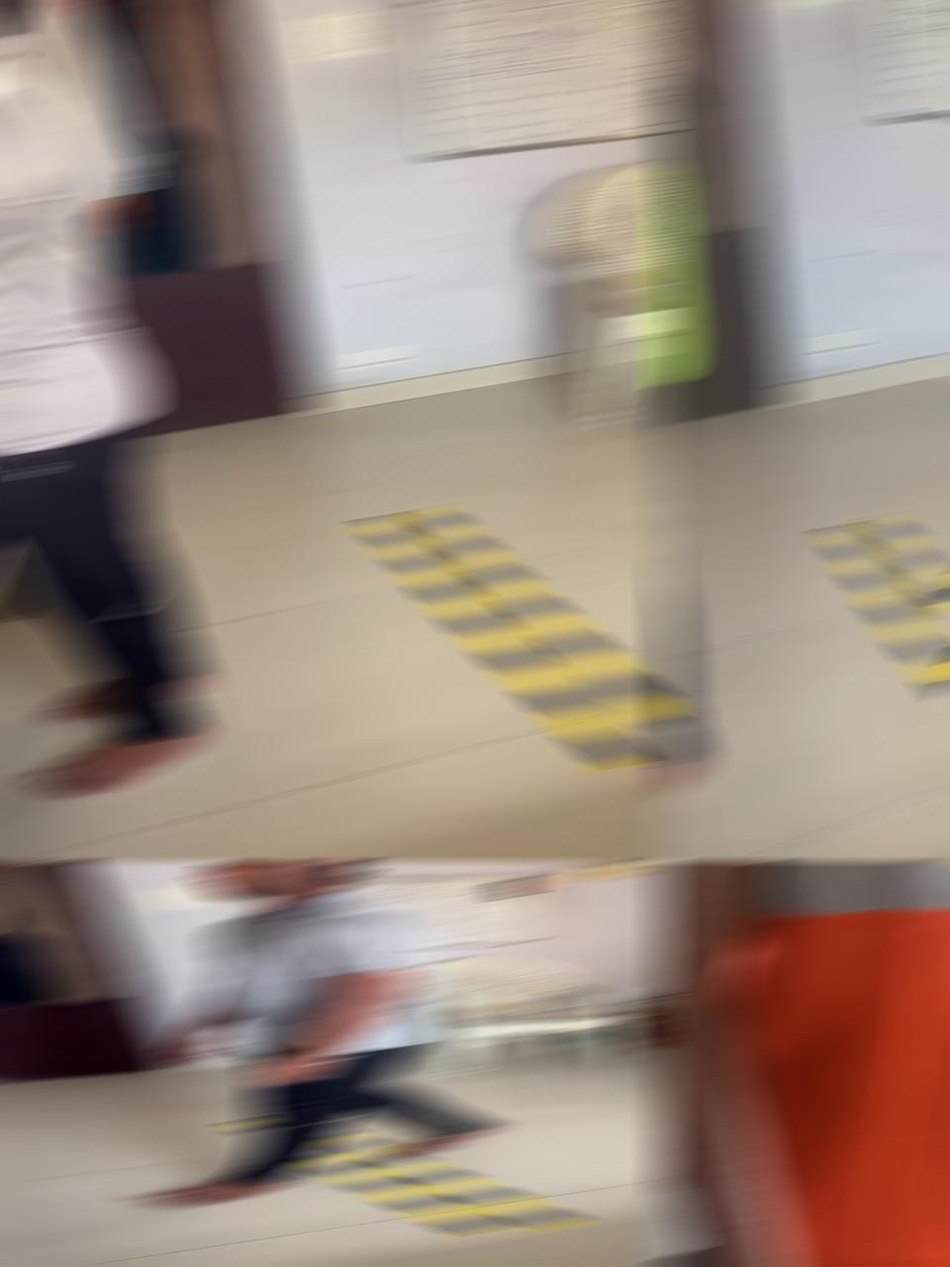BorderLine: (362, 504, 673, 774), (220, 1118, 590, 1235), (817, 515, 950, 821)
Helmet: (189, 862, 373, 902)
No_Vest: (0, 48, 158, 452), (204, 893, 442, 1052)
Person: (0, 36, 212, 796), (129, 862, 503, 1203), (656, 862, 950, 1266), (657, 1, 711, 830)
Vest: (688, 862, 950, 1266), (657, 1, 696, 406)
